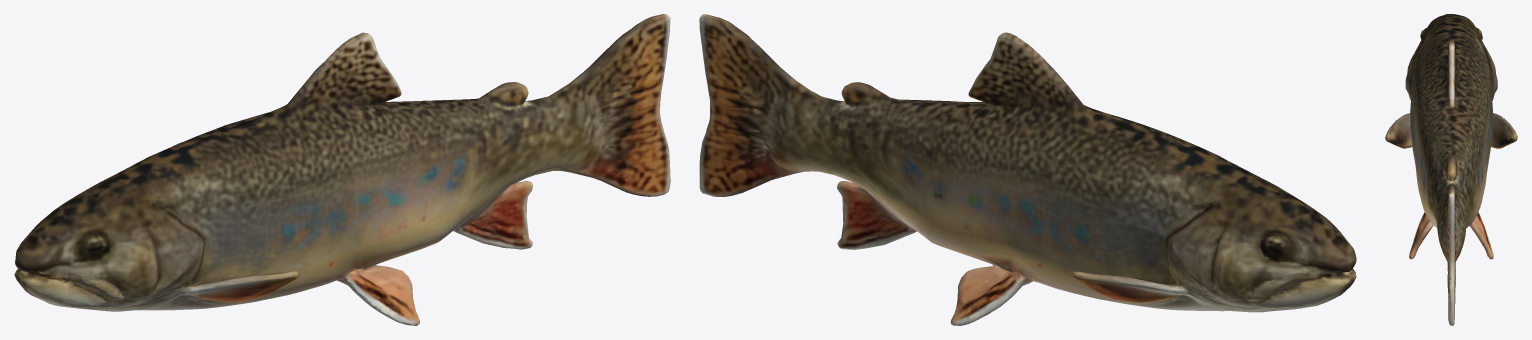
Rendered from brook-trout-v18-lod.glb.
3 renders of one model, left to right at view 1: azimuth 30°, elevation 25°; view 2: azimuth 150°, elevation 25°; view 3: azimuth 270°, elevation 25°, orthographic. The views are drawn at different scales.
Parts seen in each view (by area): view 1: world; view 2: world; view 3: world.
Part boxes in pixels (x1,y1,x2,y2): world: (14,14,670,325); world: (699,14,1356,325); world: (1385,14,1517,325).
Size of the model in its own units: 0.3498 by 0.1428 by 0.0832.
1 material, 1 textured.
